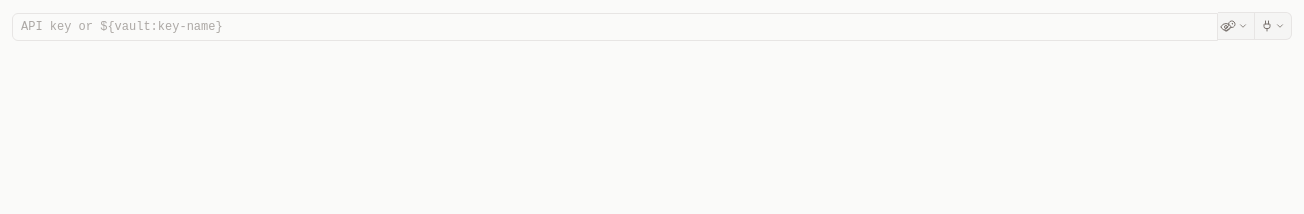
SecretKeyPicker with a connection reference › does not offer a connection whose name no reference can carry
Click the button with test id "secret-key-picker-connection-btn". click: (1274, 26)
box: [1255, 12, 1292, 40]
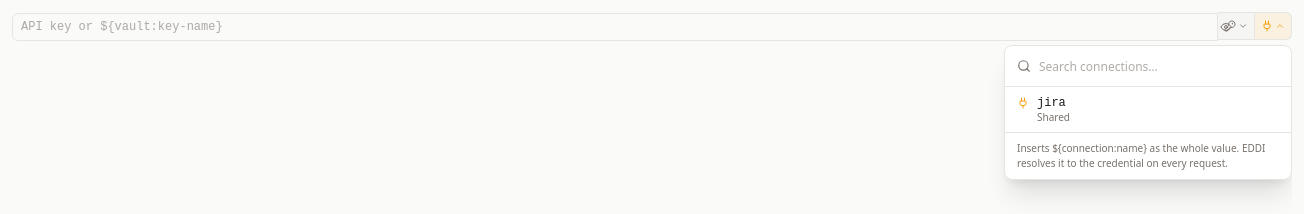
Expected: the option with test id "secret-key-picker-connection-btn-option-jira" is shown, [1005, 87, 1291, 132]
